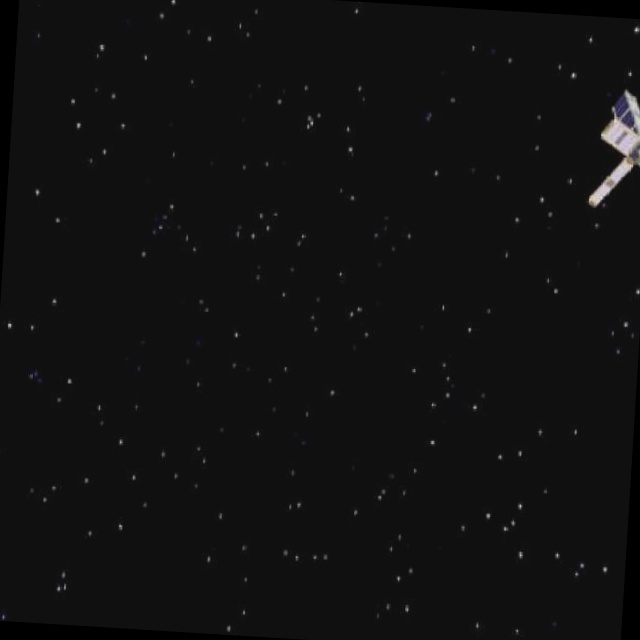satellite: (581, 91, 640, 217)
